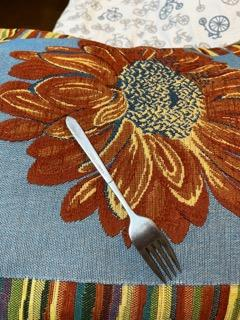fork: (63, 113, 185, 284)
